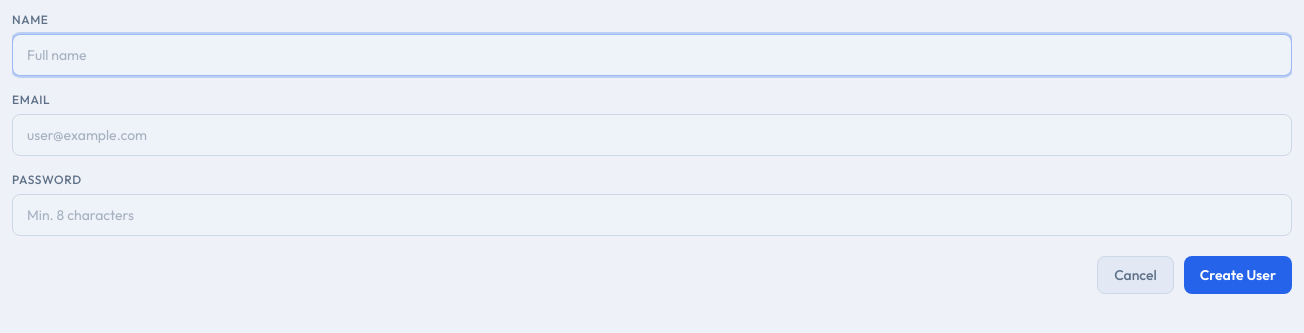
it: UserForm — validation › shows a name error when name is too short
In the field with placeholder "Full name": (652, 55) [12,34,1292,76], type "ab"
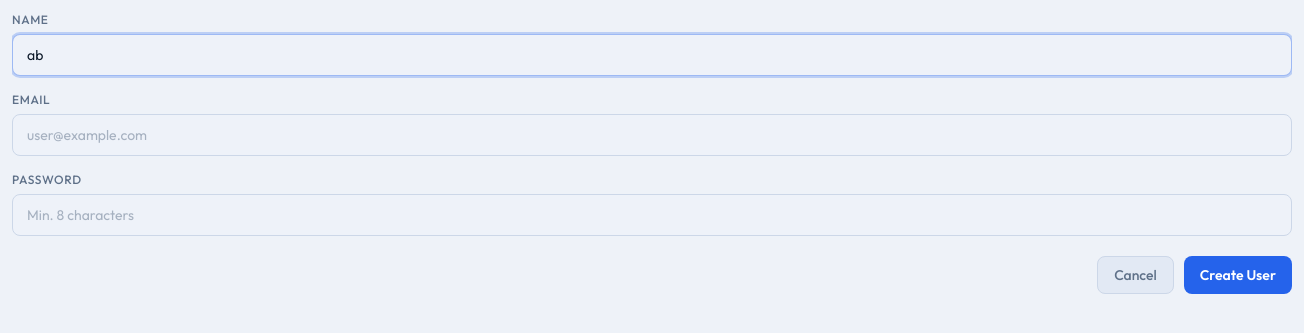
In the field with placeholder "user@example.com": (652, 135) [12,114,1292,156], type "test@example.com"
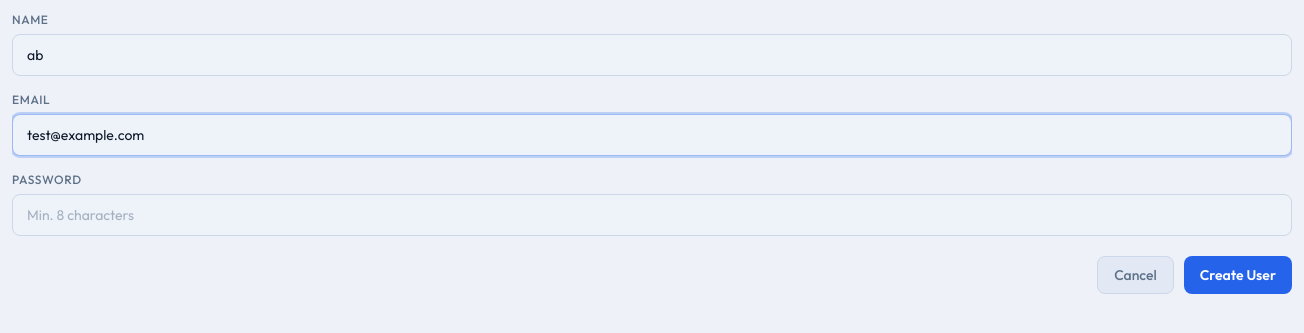
In the password field with placeholder "Min. 8 characters": (652, 215) [12,194,1292,236], type "password123"
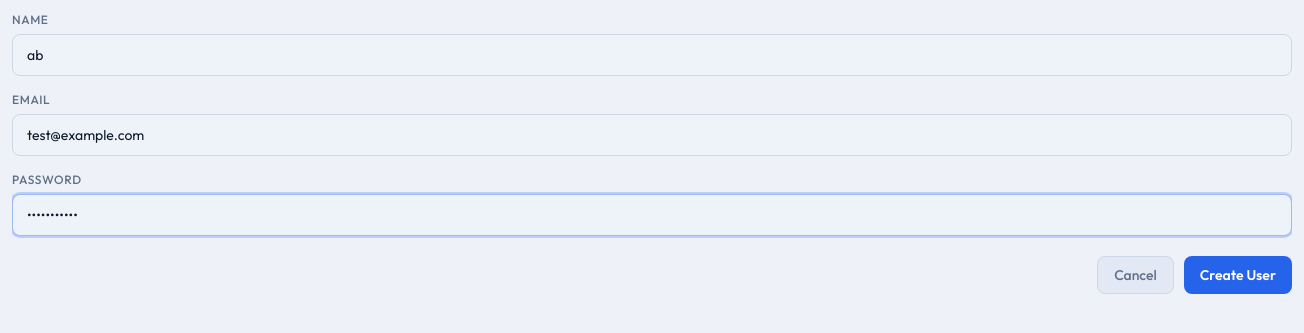
Click the button "Create User": (1238, 275) [1184,256,1292,294]
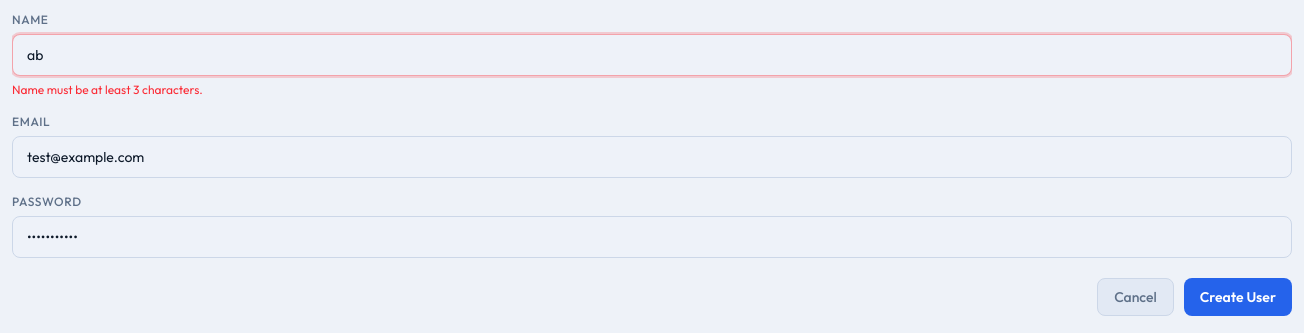
Check: the text "Name must be at least 3 characters." is shown, box [12,82,203,97]
